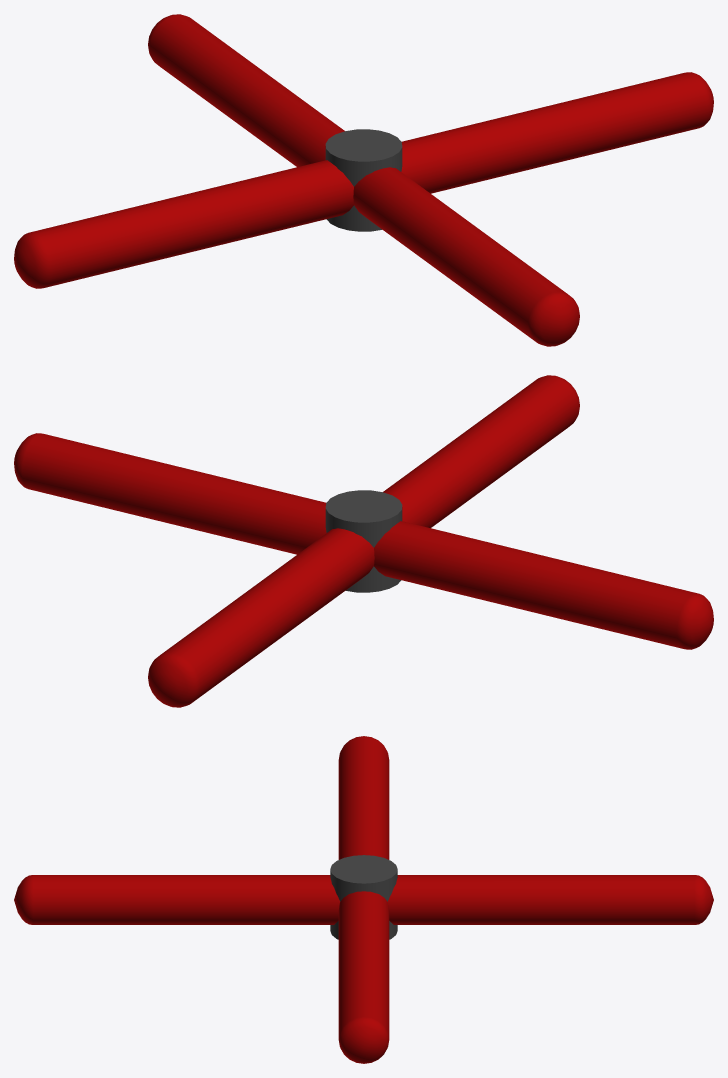
The model's file is Engel_1_Model.fbx.
3 views of the same model, one above another, from view 1: azimuth 30°, elevation 25°; view 2: azimuth 150°, elevation 25°; view 3: azimuth 270°, elevation 25° (orthographic). The views are drawn at different scales.
Parts seen in each view (by area): view 1: pCylinder5; view 2: pCylinder5; view 3: pCylinder5.
Boxes of the visible parts, <box> form: pCylinder5: <box>14,14,713,346</box>; pCylinder5: <box>14,375,713,707</box>; pCylinder5: <box>14,736,713,1063</box>.
Size of the model in its own units: 20.71 by 2 by 20.71.
